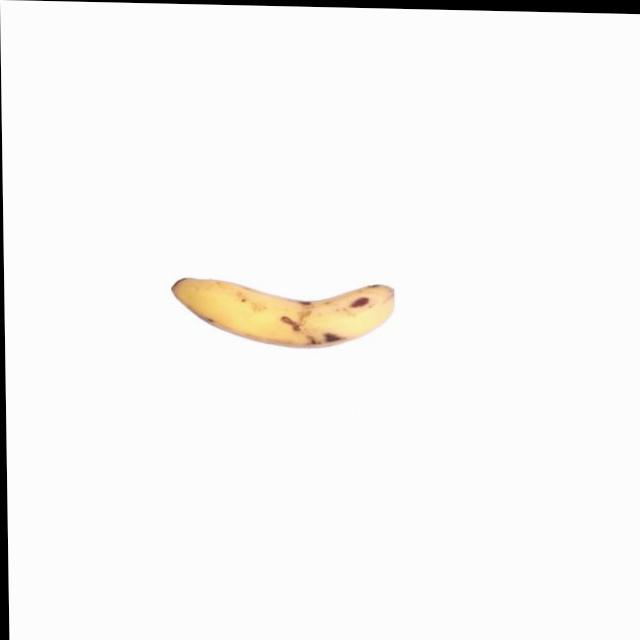banana: (169, 273, 399, 353)
